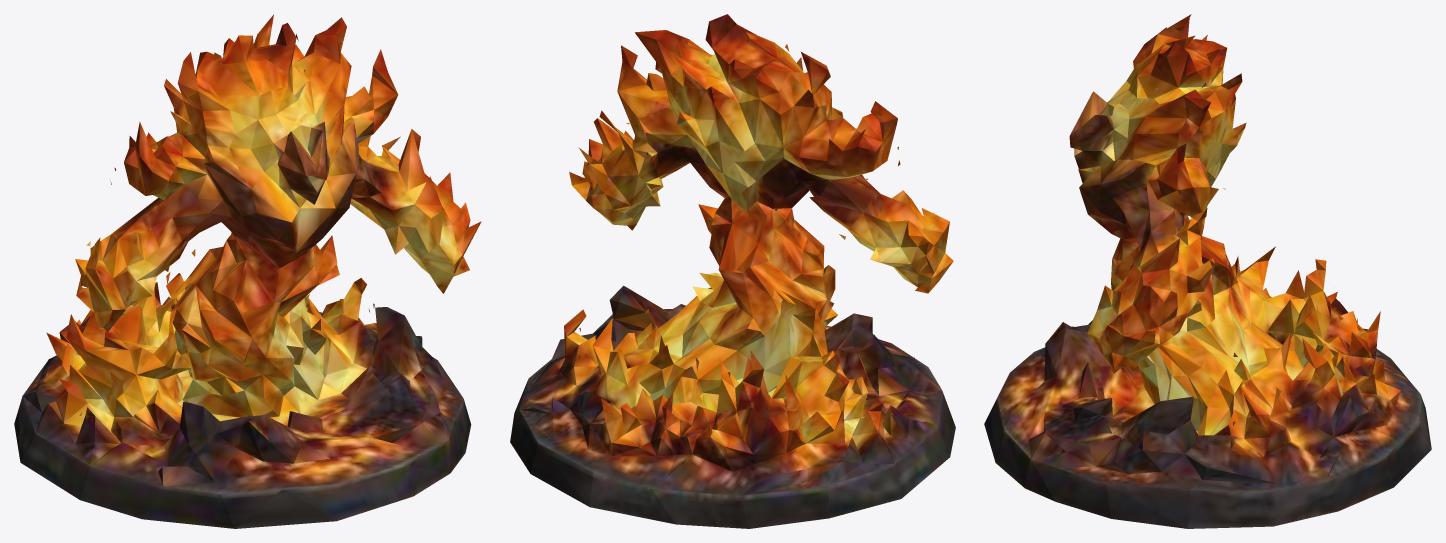
Rendered from elemental_fire_lod1.glb.
The picture shows the model from 3 angles, left to right: view 1: azimuth 30°, elevation 25°; view 2: azimuth 150°, elevation 25°; view 3: azimuth 270°, elevation 25°; orthographic projection. The views are drawn at different scales.
Visible parts, largest first — view 1: elemental_fire_lod1; view 2: elemental_fire_lod1; view 3: elemental_fire_lod1.
Part boxes in pixels (bbox=[...]): elemental_fire_lod1: bbox=[14, 14, 481, 528]; elemental_fire_lod1: bbox=[510, 14, 955, 528]; elemental_fire_lod1: bbox=[984, 14, 1431, 528].
Bounding box in the file's own units: 2.18 × 2.17 × 2.18.
Materials: 1 (1 with a texture image).
